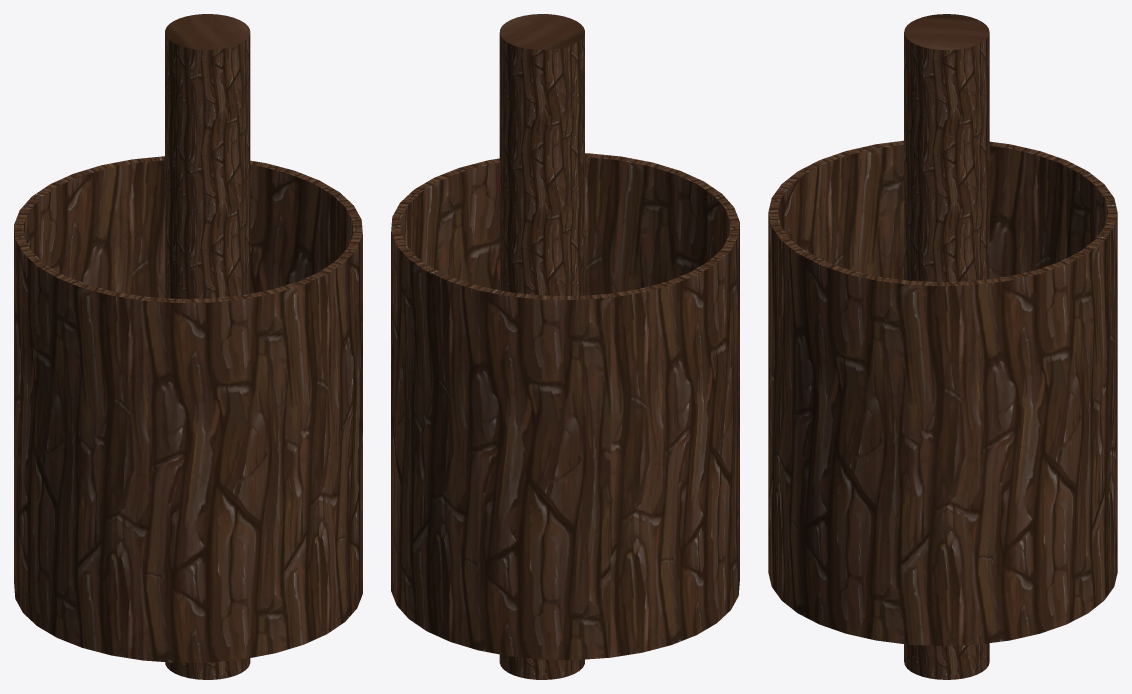
File: level_2_v4.fbx
3 views of the same model, side by side, from view 1: azimuth 30°, elevation 25°; view 2: azimuth 150°, elevation 25°; view 3: azimuth 270°, elevation 25° (orthographic).
Visible parts, largest first — view 1: Cylinder, Cylinder.001; view 2: Cylinder, Cylinder.001; view 3: Cylinder, Cylinder.001.
Boxes of the visible parts, left/top/right/bottom form: Cylinder: left=14, top=156, right=362, bottom=662; Cylinder.001: left=165, top=14, right=250, bottom=679; Cylinder: left=391, top=153, right=739, bottom=659; Cylinder.001: left=499, top=14, right=584, bottom=679; Cylinder: left=768, top=140, right=1117, bottom=645; Cylinder.001: left=904, top=14, right=989, bottom=679.
Size of the model in its own units: 10000 by 19892 by 10000.
